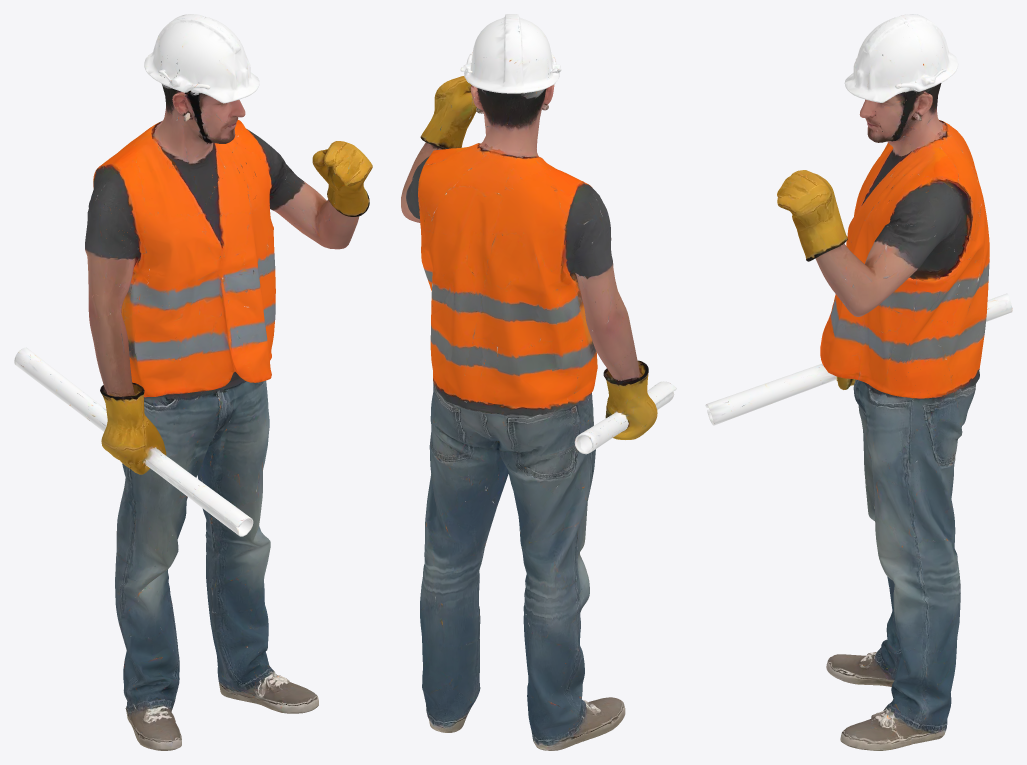
The model's file is worker-vest-drawings.glb.
The picture shows the model from 3 angles, left to right: view 1: azimuth 30°, elevation 25°; view 2: azimuth 150°, elevation 25°; view 3: azimuth 270°, elevation 25°; orthographic projection. The views are drawn at different scales.
Visible parts, largest first — view 1: Object_5, Object_6, Object_7; view 2: Object_6, Object_5, Object_7; view 3: Object_6, Object_5, Object_7.
Part boxes in pixels (x1,y1,x2,y2): Object_5: (85,17,372,750); Object_6: (14,14,310,737); Object_7: (86,71,279,694); Object_6: (403,14,632,750); Object_5: (401,14,676,741); Object_7: (505,22,627,697); Object_6: (863,14,1012,744); Object_5: (705,14,956,750); Object_7: (866,19,915,749).
Bounding box in the file's own units: 0.742 × 1.9 × 0.7638.
1 material, 1 textured.
